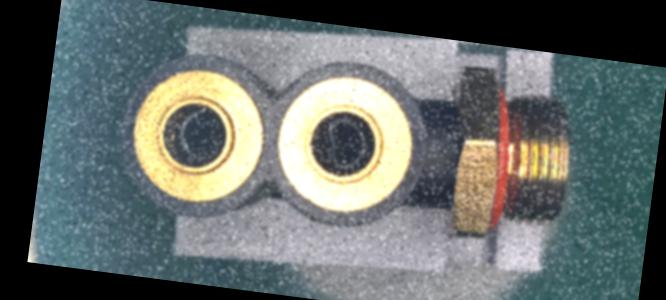off-centered: (174, 99, 231, 167), (319, 114, 374, 178)
